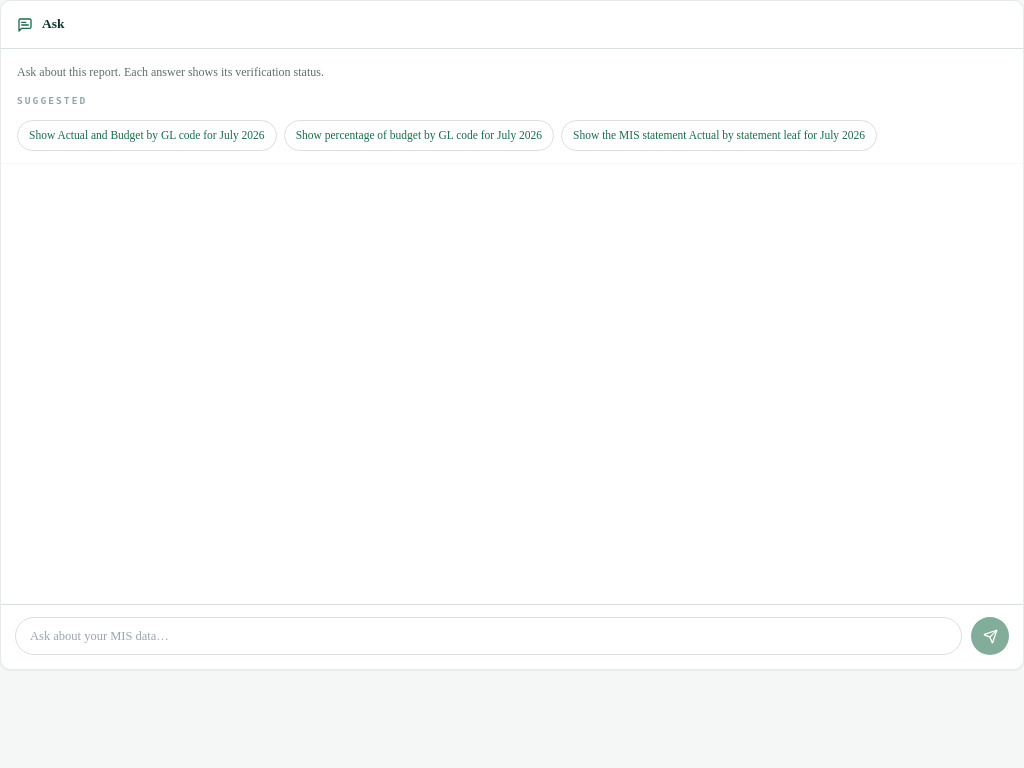
it: a failed plant choice uses plant-neutral recovery copy
Type "Show Actual by plant" into the field labelled "Ask about your MIS data".
click(488, 636); type("Show Actual by plant")  # box [15,617,962,655]
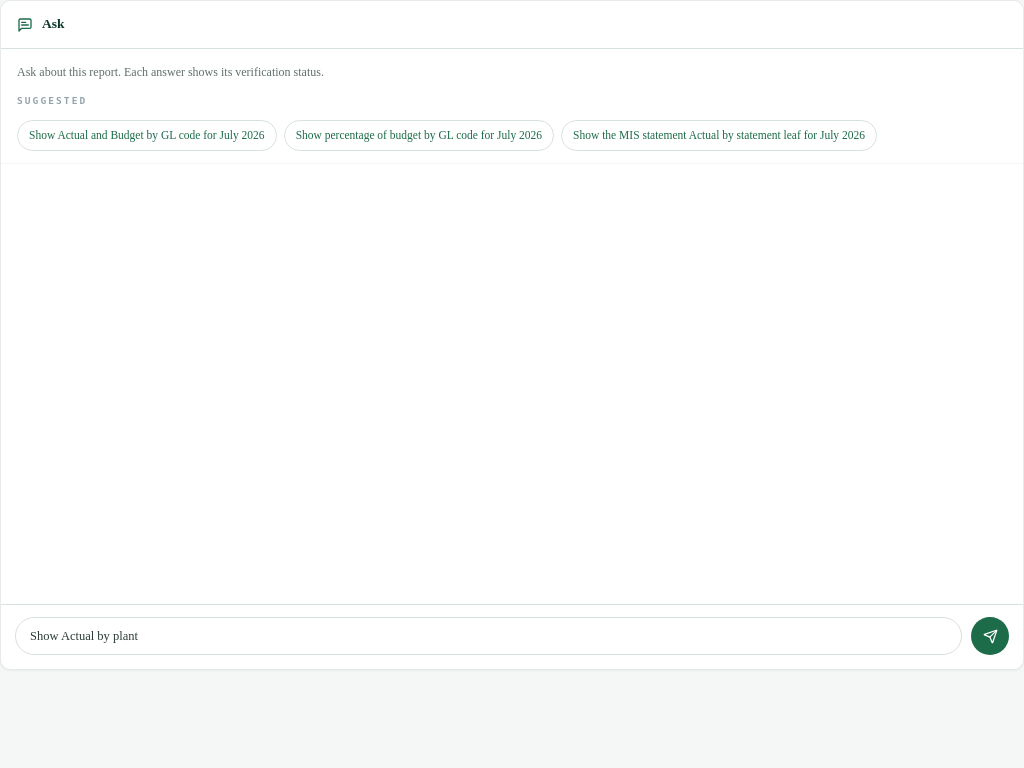
Click the button named "Send question".
click(990, 636)  # box [971,617,1009,655]
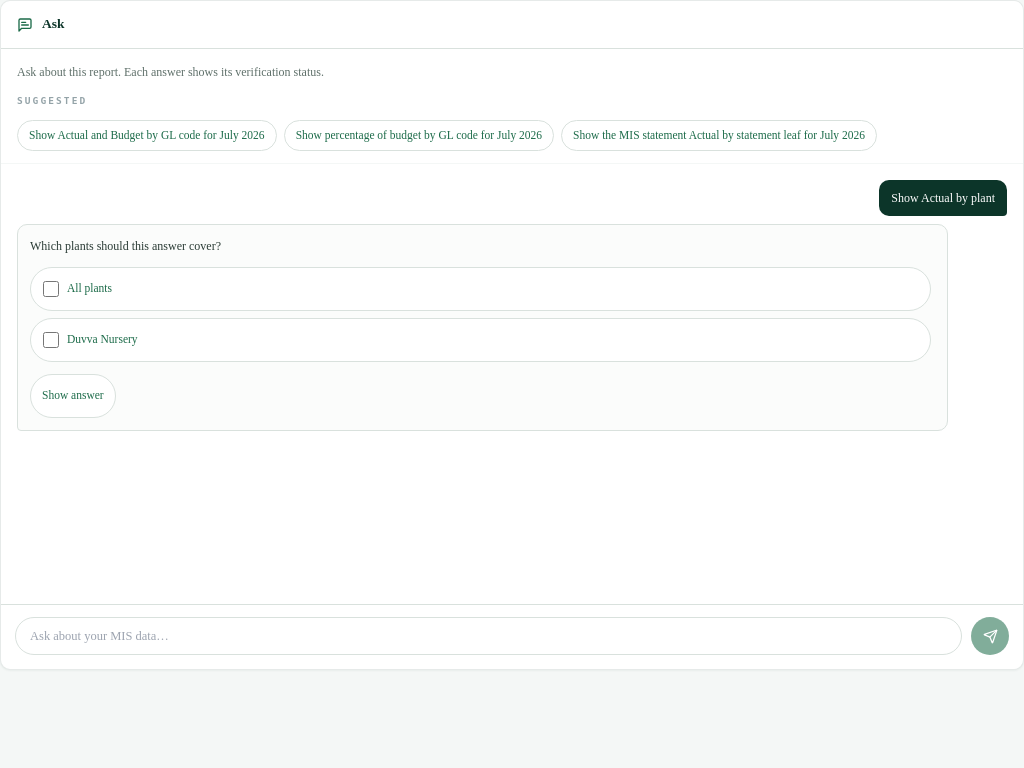
Click the checkbox labelled "Duvva Nursery".
click(51, 340)  # box [43,332,59,348]
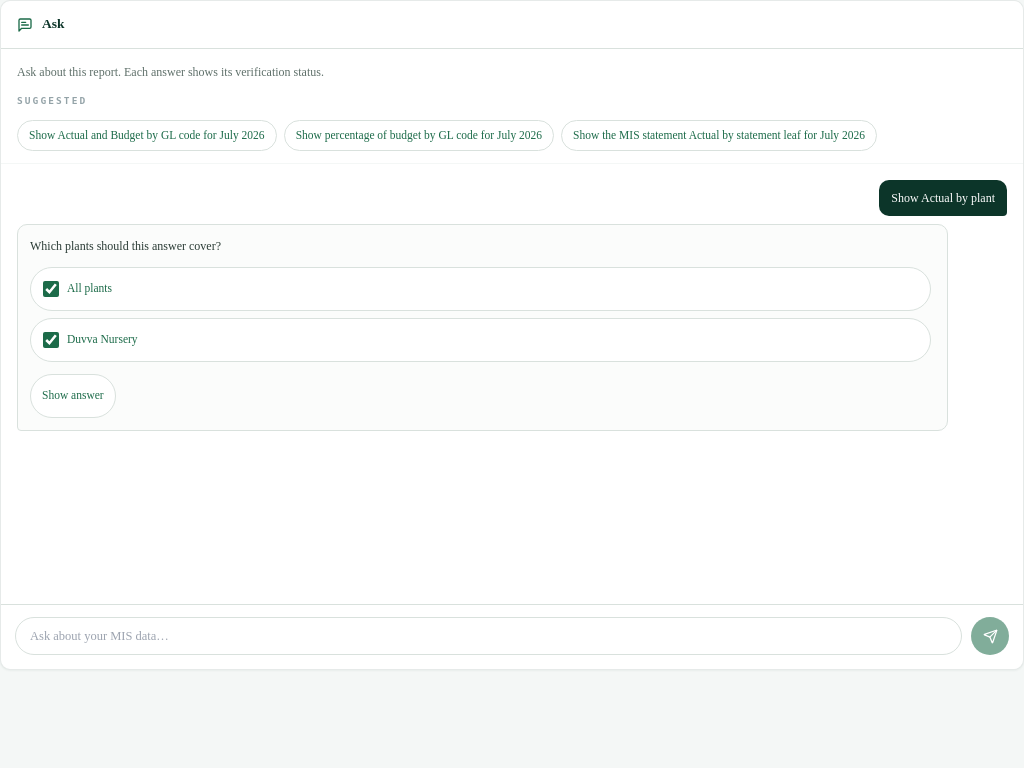
Click the button "Show answer".
click(73, 396)  # box [30,374,116,418]
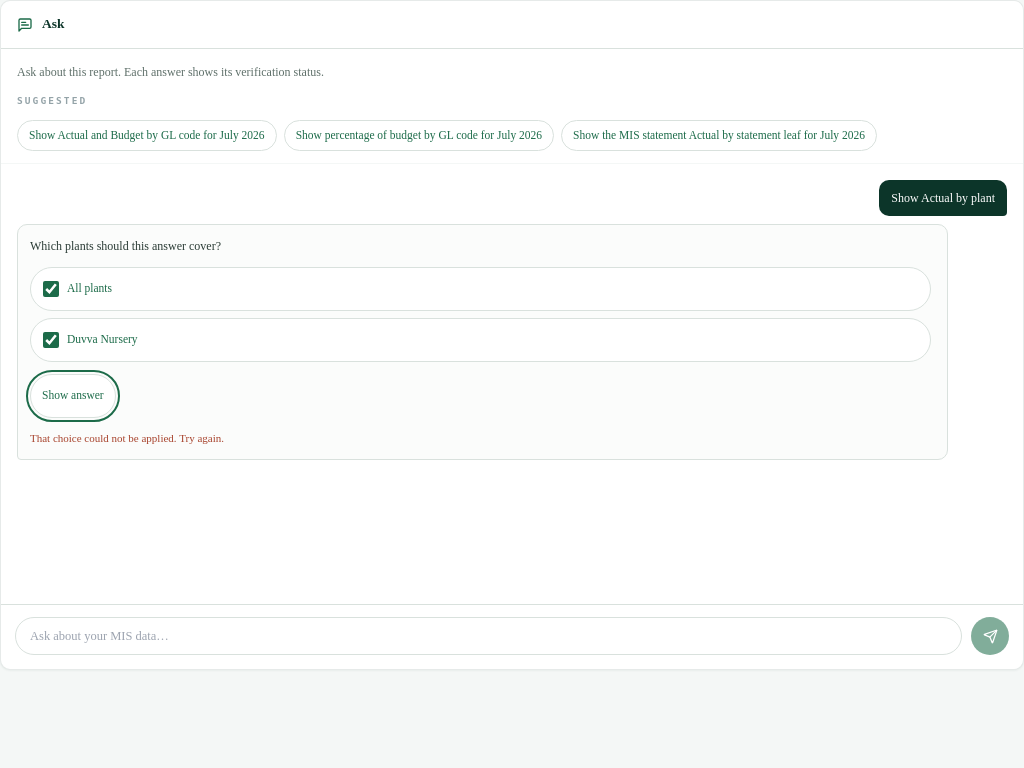
Now the message reads "That choice could not be applied. Try again.", box [30,432,224,444]
